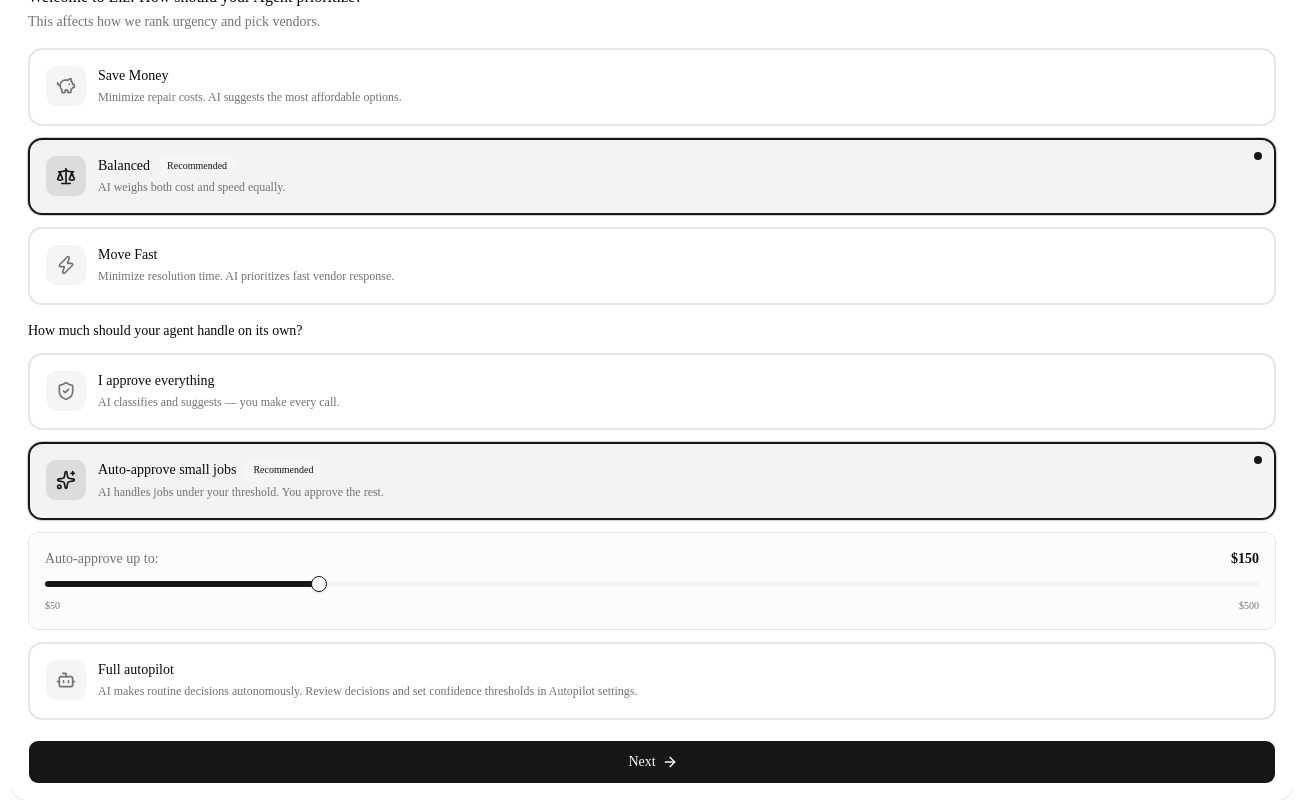
Test: OnboardingWizard › navigates back from step 2 to step 1
(page scrolled)
// Go to step 2
Step 1. Click the button "Next" → click(652, 762), box [28,740,1276,784]
(page scrolled)
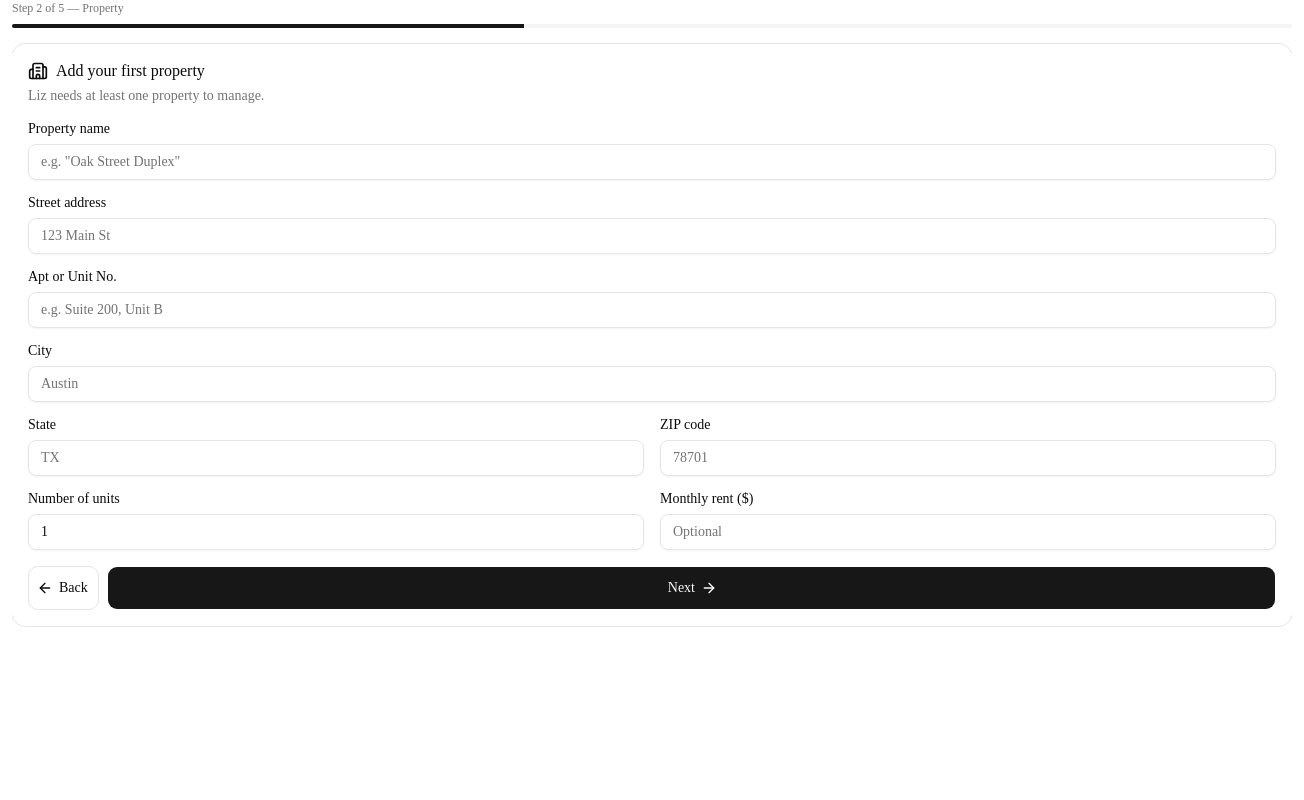
Now the text "Step 2 of 5 — Property" is shown, box [12,0,124,16]
//  Go back
Step 2. Click the button "Back" → click(63, 588), box [28,566,99,610]
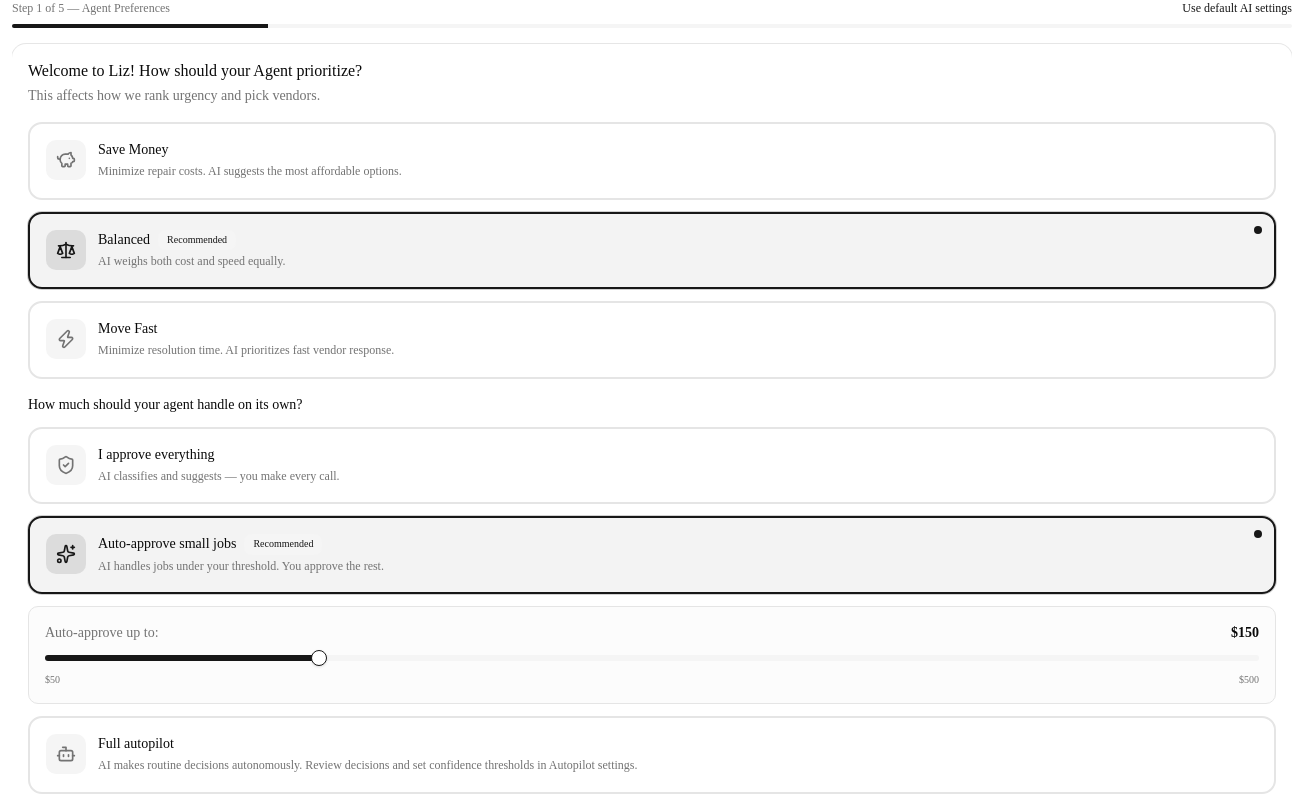
Now the text "Step 1 of 5 — Agent Preferences" is shown, box [12,0,170,16]
